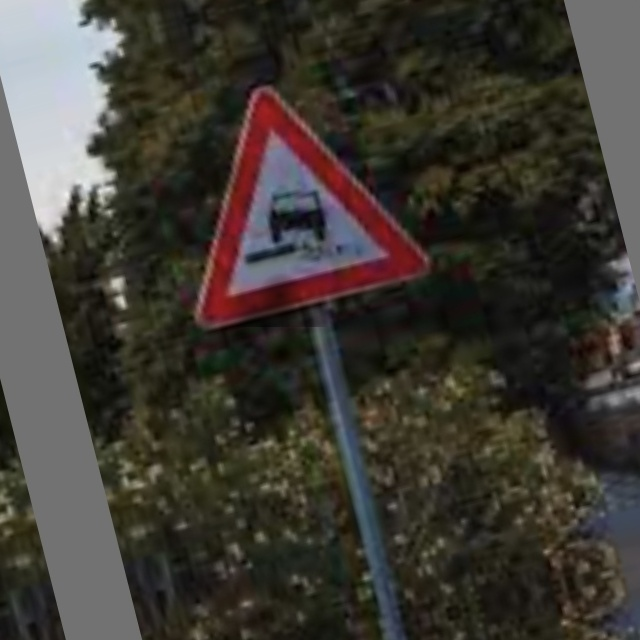Loose_Gravel: (147, 52, 432, 327)
